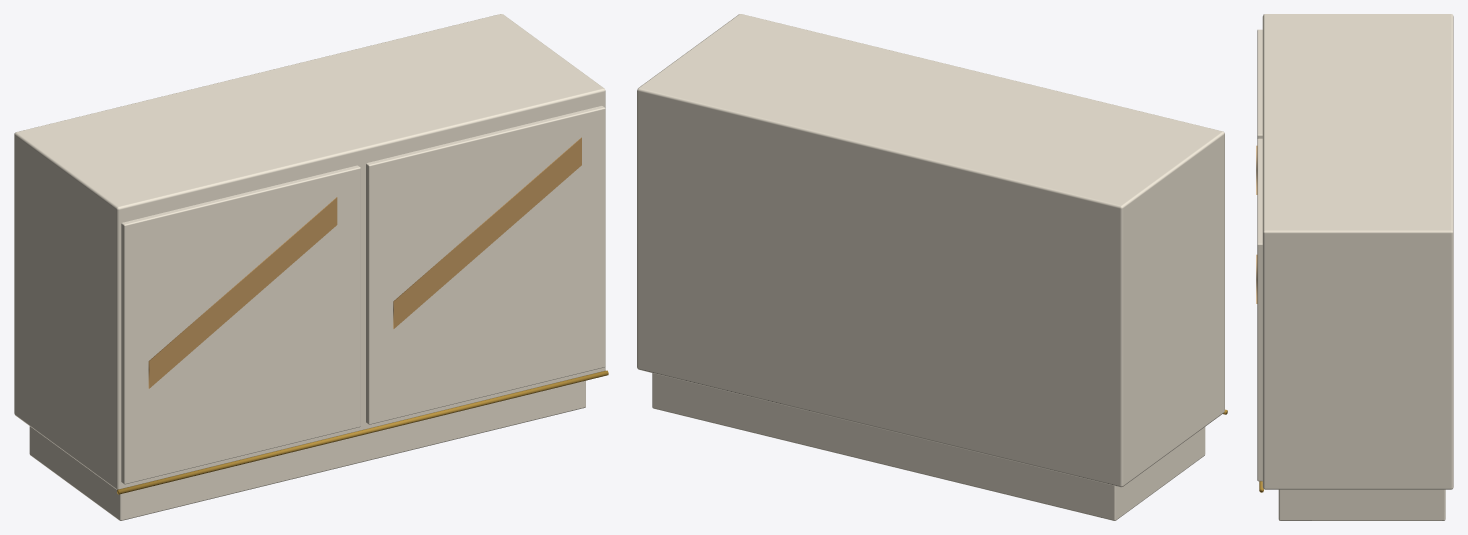
Rendered from mustang-bed-set-with-wardrobe--dresser.glb.
The picture shows the model from 3 angles, left to right: view 1: azimuth 30°, elevation 25°; view 2: azimuth 150°, elevation 25°; view 3: azimuth 270°, elevation 25°; orthographic projection. The views are drawn at different scales.
Parts seen in each view (by area): view 1: body, door-1, door1, plinth, wedge-1, wedge1, goldline; view 2: body, plinth; view 3: body, plinth, door1, door-1.
Boxes of the visible parts, bbox=[...] form: body: bbox=[14, 14, 605, 489]; door-1: bbox=[121, 165, 360, 484]; door1: bbox=[366, 106, 605, 424]; plinth: bbox=[29, 380, 585, 520]; wedge-1: bbox=[148, 197, 337, 388]; wedge1: bbox=[393, 137, 581, 328]; goldline: bbox=[117, 370, 608, 494]; body: bbox=[637, 14, 1224, 487]; plinth: bbox=[652, 373, 1205, 520]; body: bbox=[1262, 14, 1453, 489]; plinth: bbox=[1278, 489, 1445, 520]; door1: bbox=[1257, 138, 1262, 481]; door-1: bbox=[1257, 29, 1262, 138].
Bounding box in the file's own units: 1.3 × 0.82 × 0.496.
